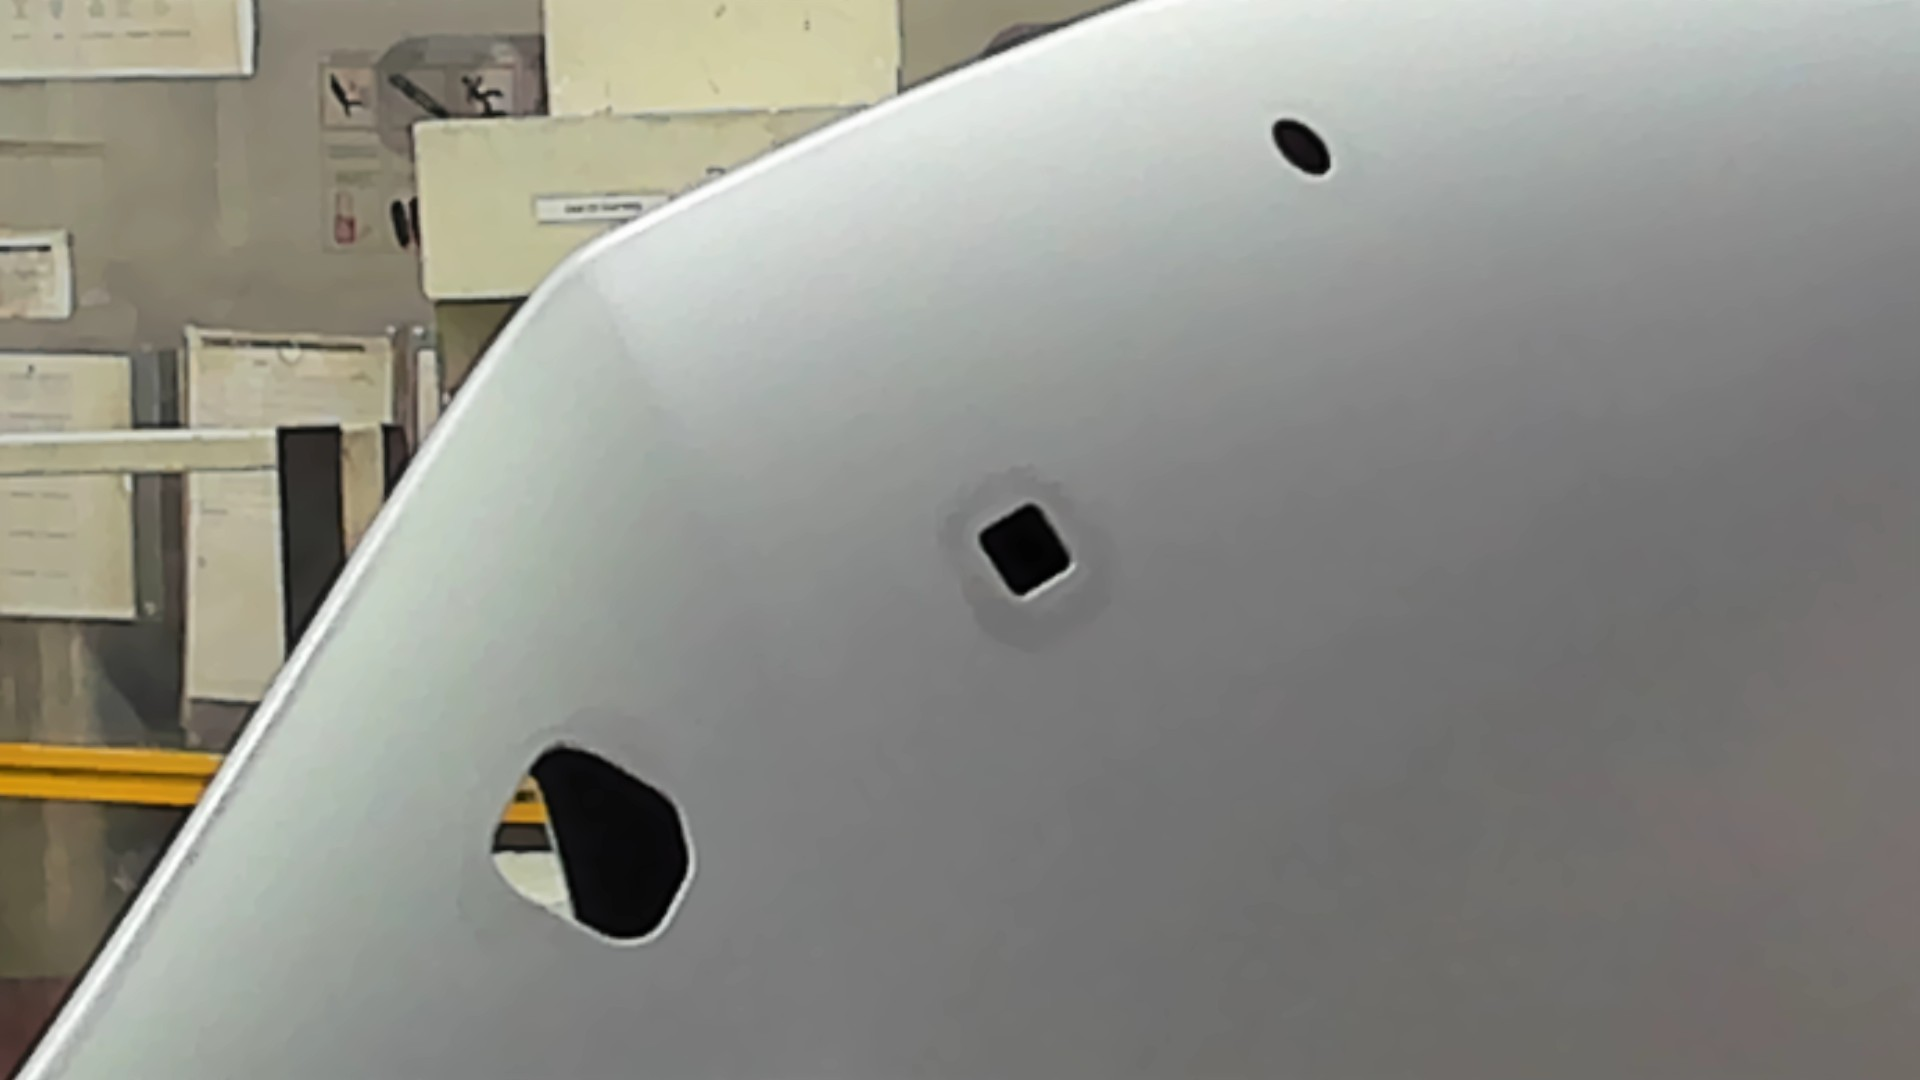chico: (1265, 113, 1337, 182)
grande: (487, 738, 702, 953)
mediano: (971, 495, 1083, 609)
